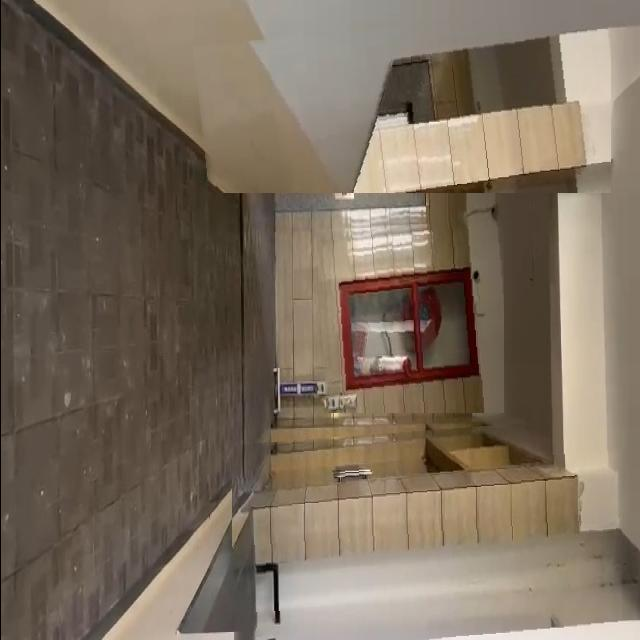door: (314, 217, 502, 413)
floor: (0, 136, 229, 586)
wall: (230, 416, 621, 640), (192, 6, 610, 193)
